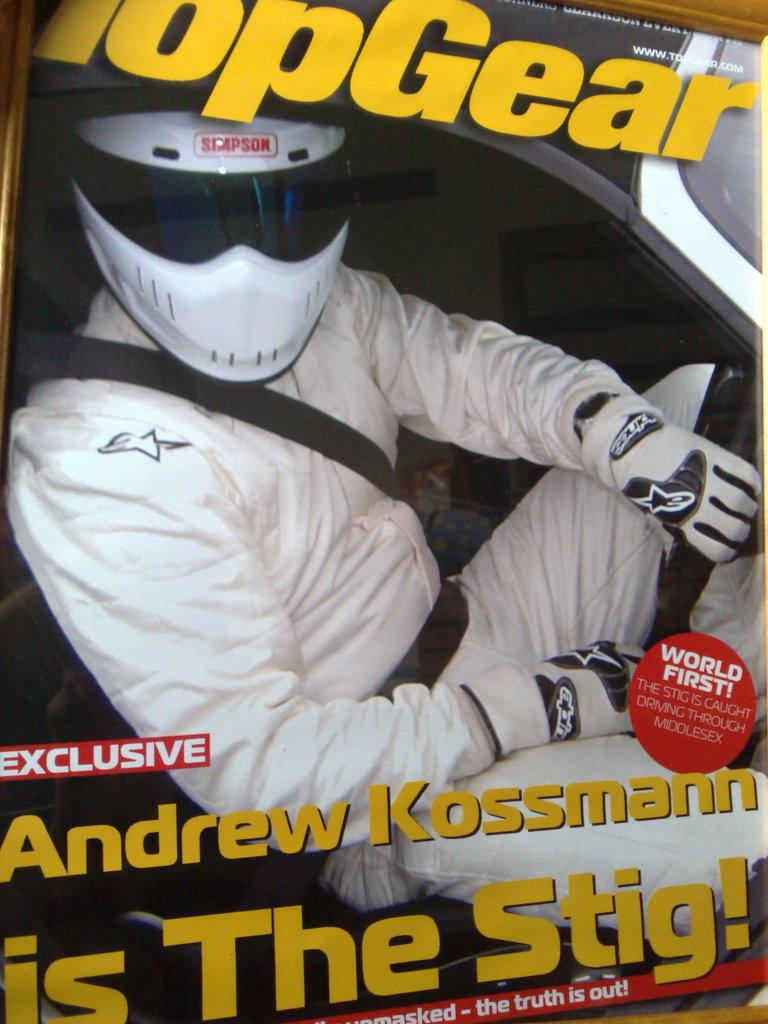helmet: (70, 38, 355, 388)
